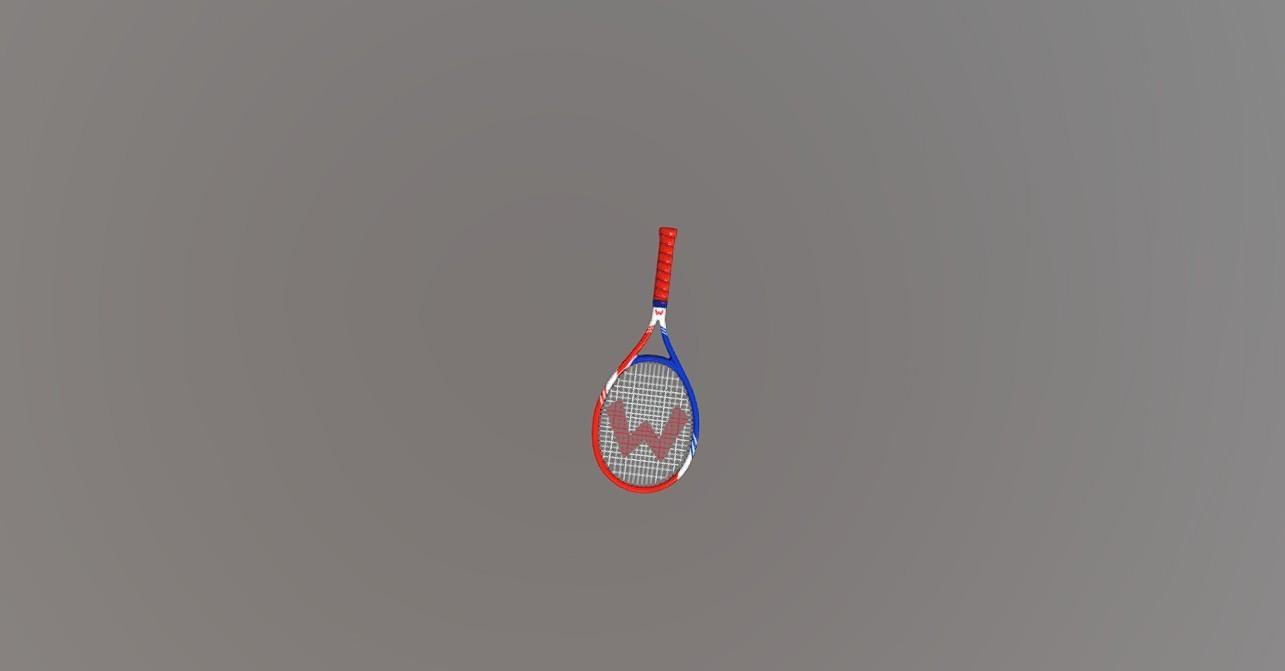Tennis-Racket: (590, 225, 700, 493)
